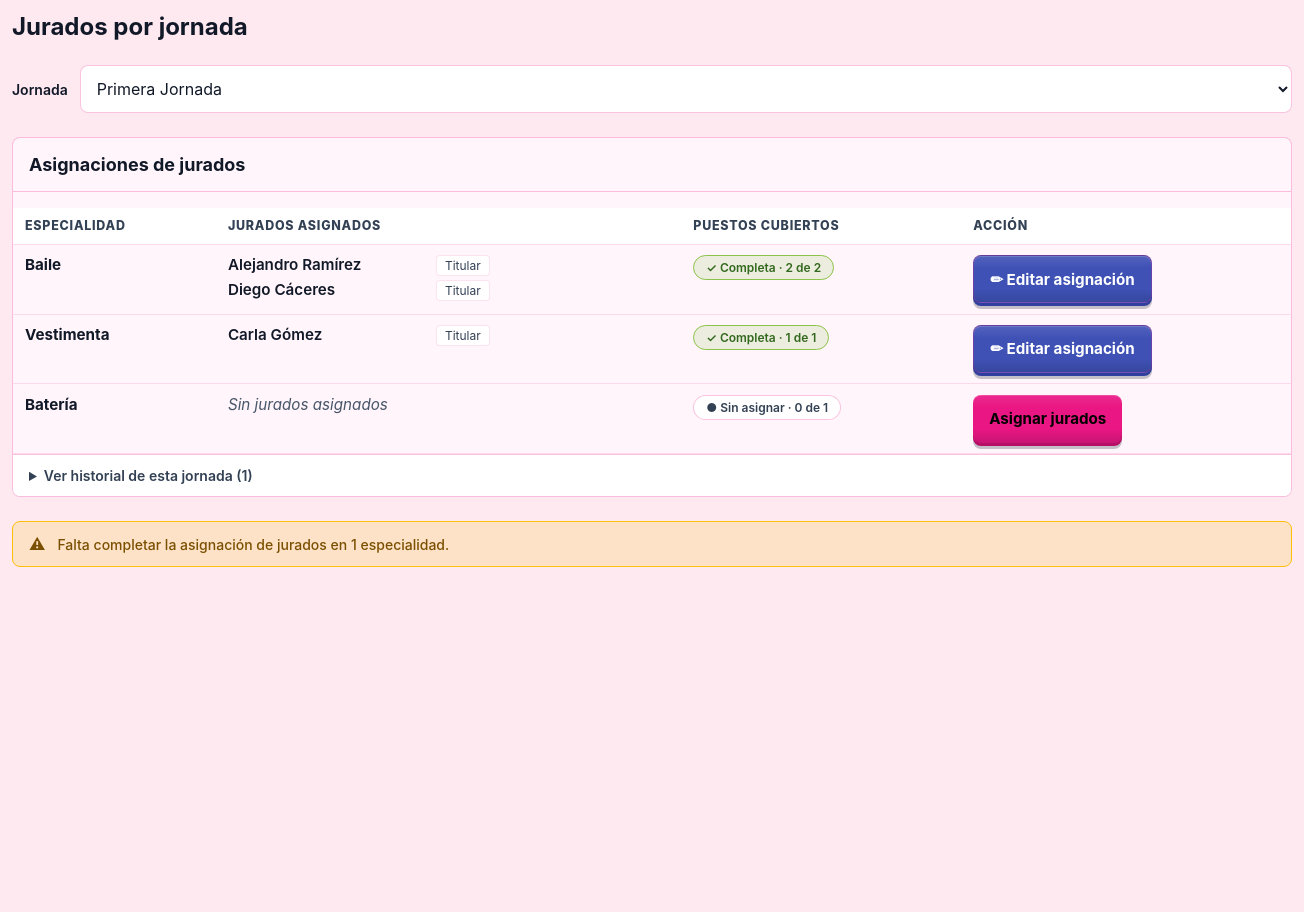
it: JuradosPorJornadaSection — Rediseño Paso 2 › muestra el historial de la jornada desplegable cerrado inicialmente y el resumen de cobertura
The width and height of the screenshot is (1304, 912).
Check: the text "Falta completar la asignación de jurados en 1 especialidad." is shown, box 57,536 -> 449,553
Note: Al abrir el historial se muestran las asignaciones inactivas
Click the heading "Ver historial de esta jornada (1)": click(148, 476) 44,467 -> 253,484
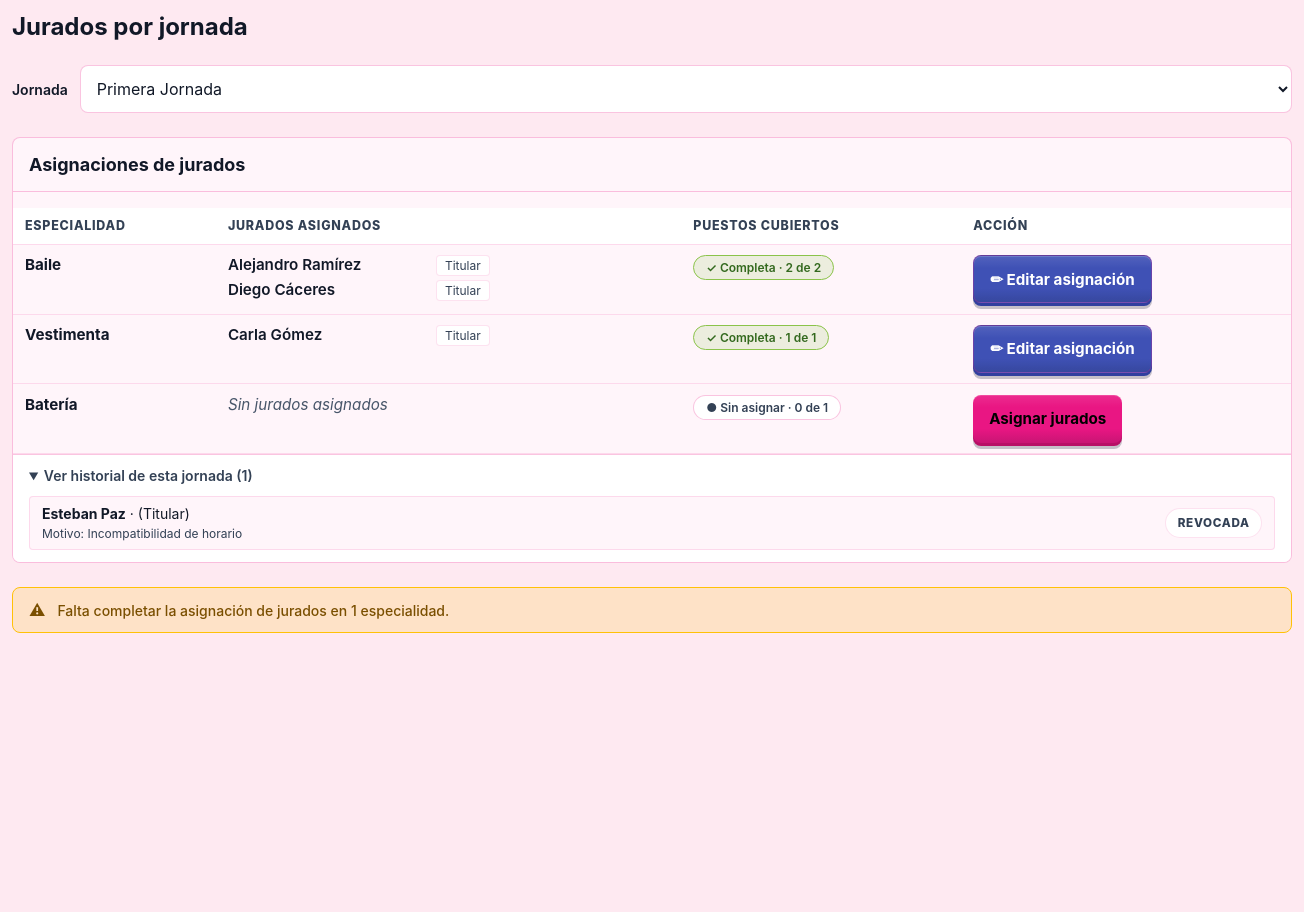
Check: the text "Esteban Paz" is shown, box 42,505 -> 126,522
Check: the text "Motivo: Incompatibilidad de horario" is shown, box 42,526 -> 242,541
Check: the text "Revocada" is shown, box 1166,508 -> 1262,538
